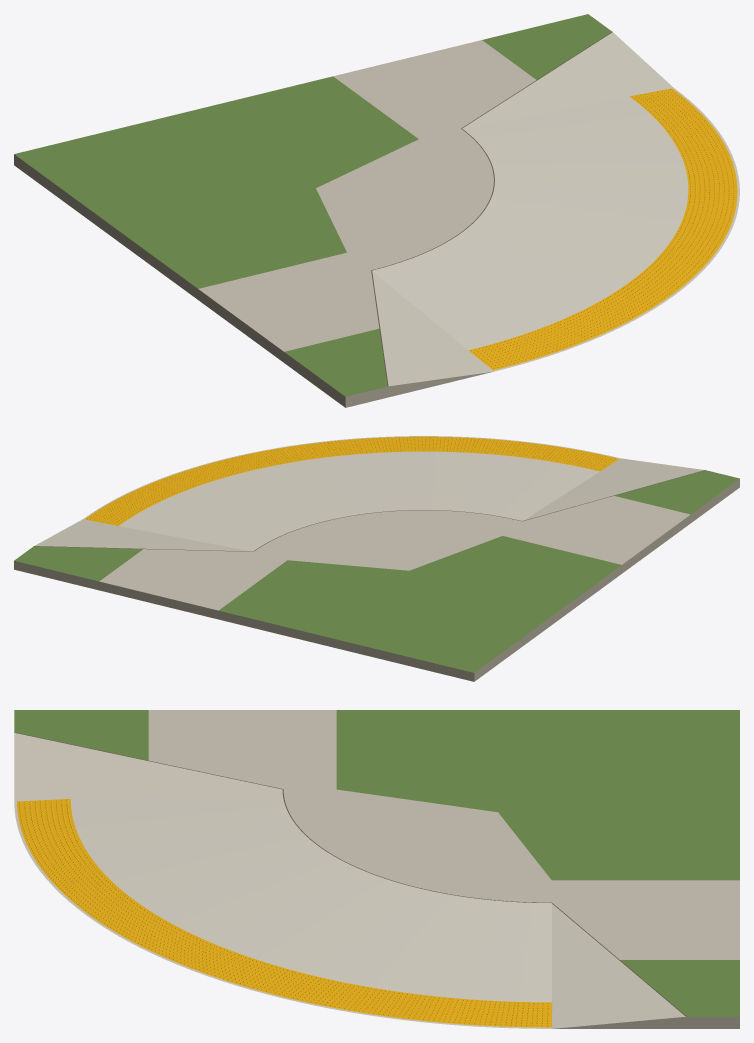
Rendered from ramp-422g.glb.
3 views of the same model, one above another, from view 1: azimuth 30°, elevation 25°; view 2: azimuth 150°, elevation 25°; view 3: azimuth 270°, elevation 25° (orthographic). The views are drawn at different scales.
Parts seen in each view (by area): view 1: Seattle Type 422G: Blended transition; view 2: Seattle Type 422G: Blended transition; view 3: Seattle Type 422G: Blended transition.
Part boxes in pixels (x1=…): Seattle Type 422G: Blended transition: x1=14, y1=14, x2=739, y2=407; Seattle Type 422G: Blended transition: x1=14, y1=436, x2=739, y2=681; Seattle Type 422G: Blended transition: x1=14, y1=710, x2=739, y2=1028.
Size of the model in its own units: 8.23 by 0.1554 by 8.23.
